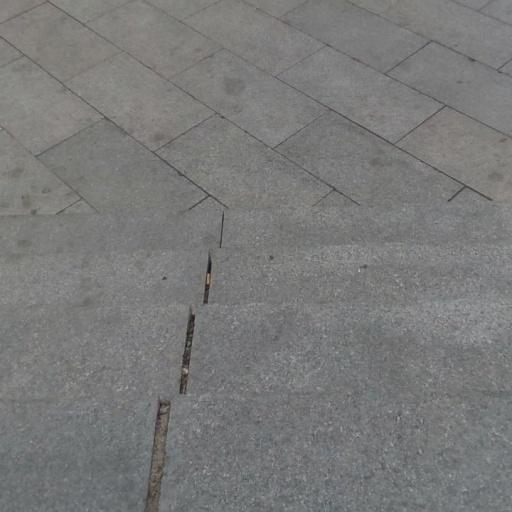stairs: (0, 203, 511, 511)
